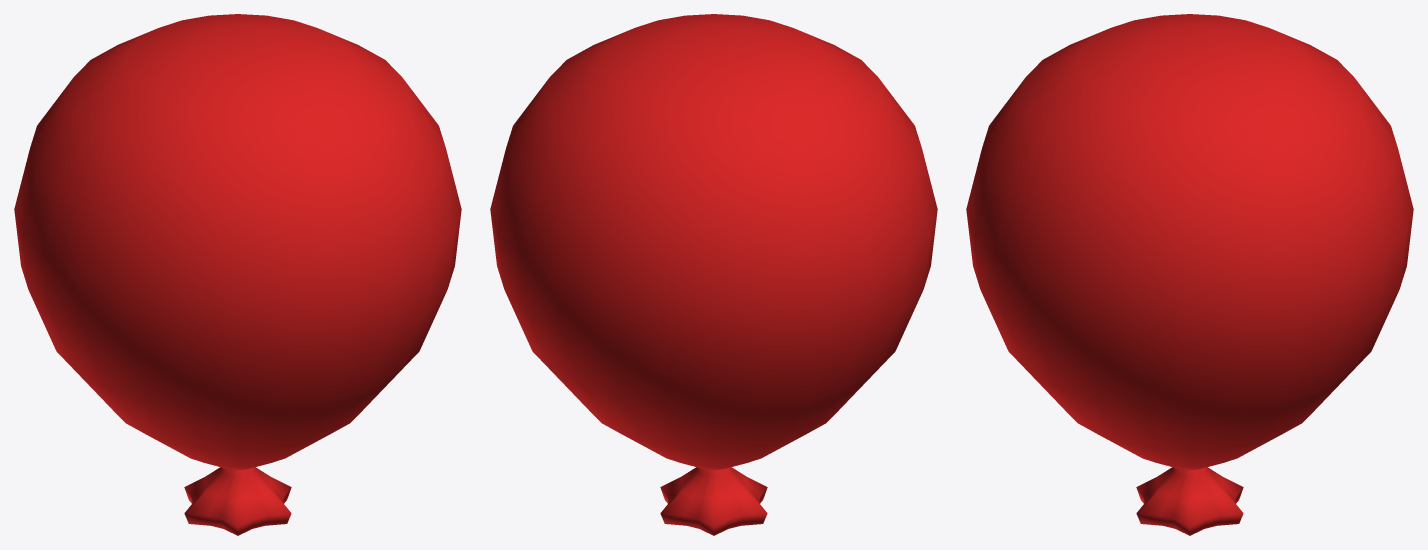
Rendered from balloon.glb.
The picture shows the model from 3 angles, left to right: view 1: azimuth 30°, elevation 25°; view 2: azimuth 150°, elevation 25°; view 3: azimuth 270°, elevation 25°; orthographic projection.
Parts seen in each view (by area): view 1: Ballon, Ballonknoten; view 2: Ballon, Ballonknoten; view 3: Ballon, Ballonknoten.
Part boxes in pixels (<box>): Ballon: <box>14,14,461,469</box>; Ballonknoten: <box>184,467,291,535</box>; Ballon: <box>490,14,937,469</box>; Ballonknoten: <box>660,467,767,535</box>; Ballon: <box>966,14,1413,469</box>; Ballonknoten: <box>1136,467,1243,535</box>.
Size of the model in its own units: 0.104 by 0.1198 by 0.104.
